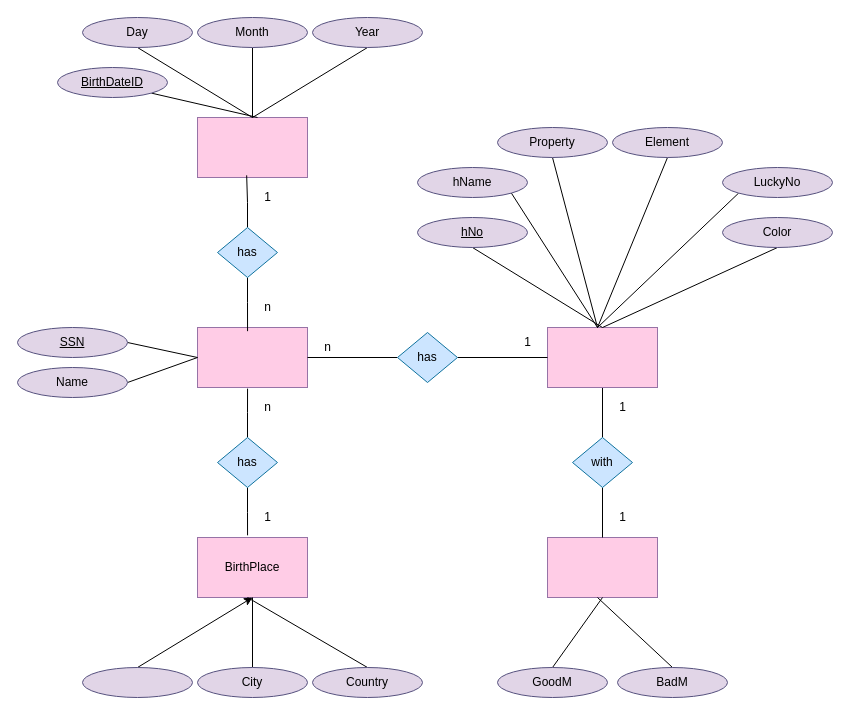
The diagram is 850 pixels wide and 715 high, and some of its shapes have lost their labels. The shapes that lost their labels are listed below. From the top down, each one's centre as x and y in pixels, then its label:
At point (252, 147): "BirthDate".
At point (252, 357): "Person".
At point (602, 357): "Horoscope".
At point (602, 567): "Match".
At point (137, 682): "BirthPlaceID".
